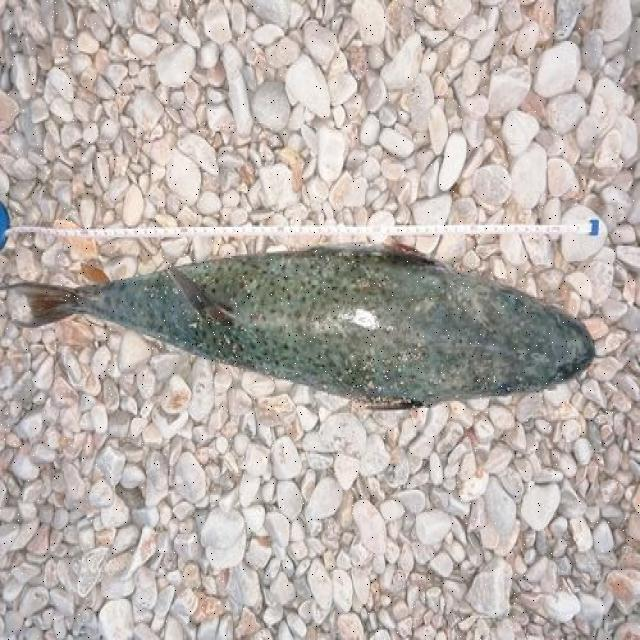Balik: (6, 246, 593, 407)
